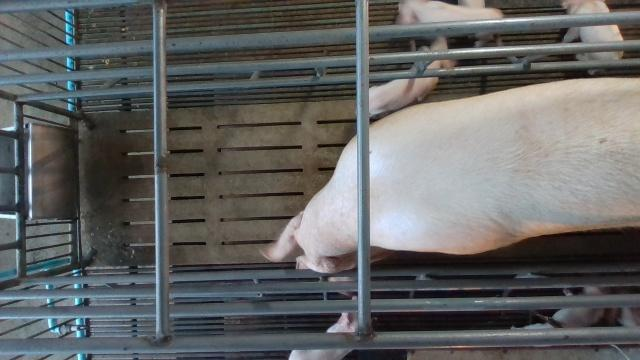piglet: (369, 38, 452, 119), (398, 0, 505, 48), (564, 0, 625, 76), (288, 295, 357, 360), (512, 287, 611, 327)
sow-stand: (259, 77, 640, 273)
